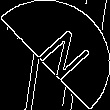N_SW: (22, 23, 88, 87)
